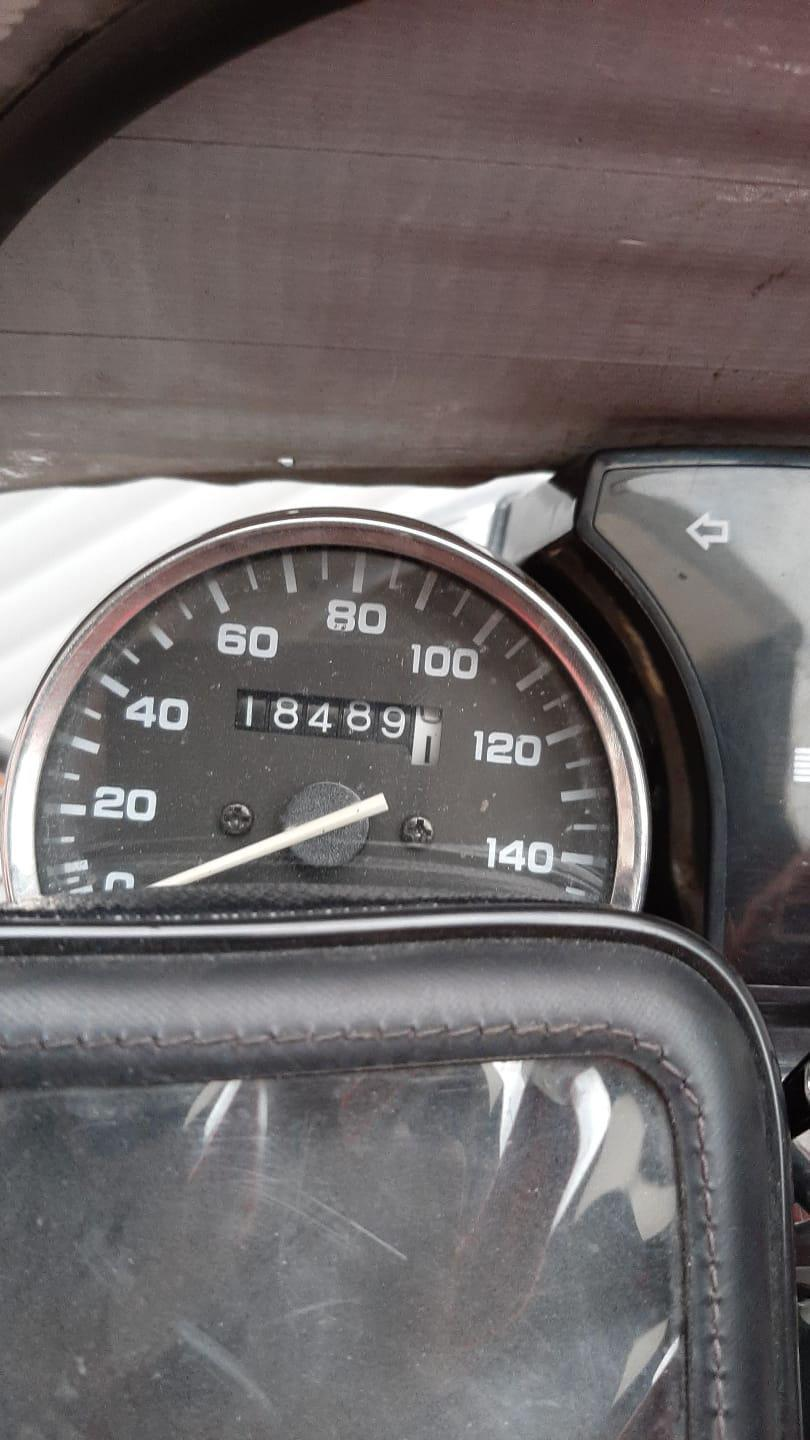0: (416, 702, 443, 722)
1: (416, 725, 435, 765), (241, 695, 262, 730)
4: (306, 700, 335, 734)
8: (272, 696, 299, 733), (345, 700, 374, 732)
9: (377, 704, 409, 740)
odometer: (229, 685, 446, 770)
